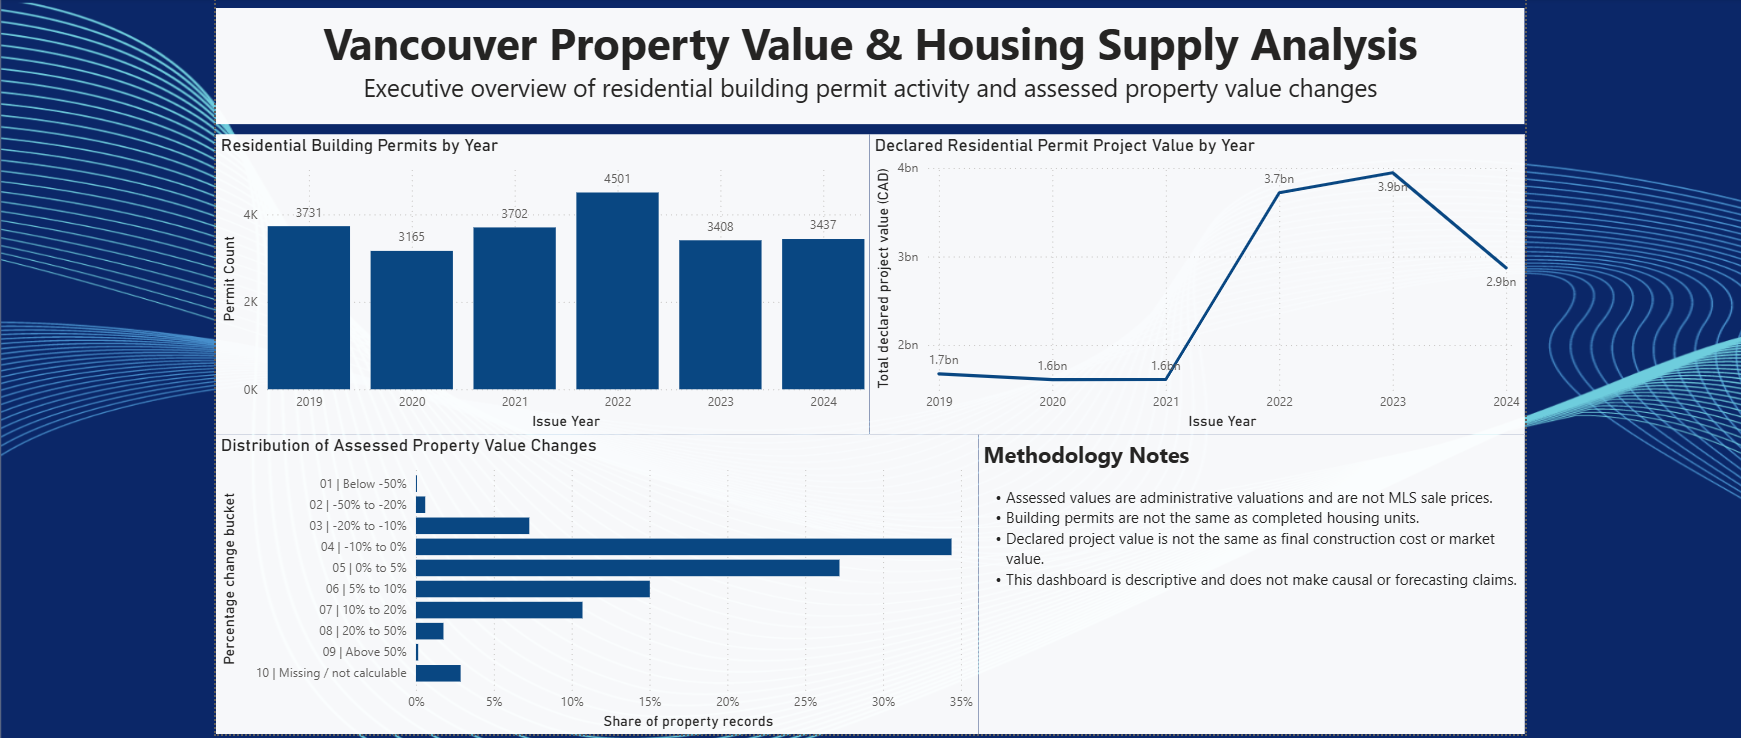

What the dashboard file says about the page in this screenshot:
{"tool":"powerbi","page":{"name":"01 Executive Overview","canvas":[1280,720],"ordinal":0},"visuals":[{"type":"clusteredBarChart","title":"Distribution of Assessed Property Value Changes","fields":{"Y":["Property Value Distribution.Share of Records"],"Category":["Property Value Distribution.Bucket Display"]},"box":[0,426.8,745.9,293.5],"z":0},{"type":"clusteredColumnChart","title":"Residential Building Permits by Year","fields":{"Category":["Permit Count by Year.IssueYear"],"Y":["Sum(Permit Count by Year.permit_count)"]},"box":[0,133.3,639.5,293.5],"z":1000},{"type":"lineChart","title":"Declared Residential Permit Project Value by Year","fields":{"Category":["Permit Project Value by Year.IssueYear"],"Y":["Sum(Permit Project Value by Year.total_project_value)"]},"box":[639.5,133.3,640.8,293.5],"z":2000},{"type":"textbox","box":[745.9,426.8,534.4,293.5],"z":3000},{"type":"textbox","title":"Title","box":[0,9.8,1280.3,113.7],"z":3001}]}

Visuals, with their boxes on the page's 1280x720 design canvas (x1, y1, x2, y2). These are canvas units, not pixel positions in the 1741x738 screenshot, which may show the page scaled, cropped or inside an application window:
"Distribution of Assessed Property Value Changes" clusteredBarChart: [left=0, top=427, right=746, bottom=720]
"Residential Building Permits by Year" clusteredColumnChart: [left=0, top=133, right=640, bottom=427]
"Declared Residential Permit Project Value by Year" lineChart: [left=640, top=133, right=1280, bottom=427]
textbox: [left=746, top=427, right=1280, bottom=720]
"Title" textbox: [left=0, top=10, right=1280, bottom=124]
